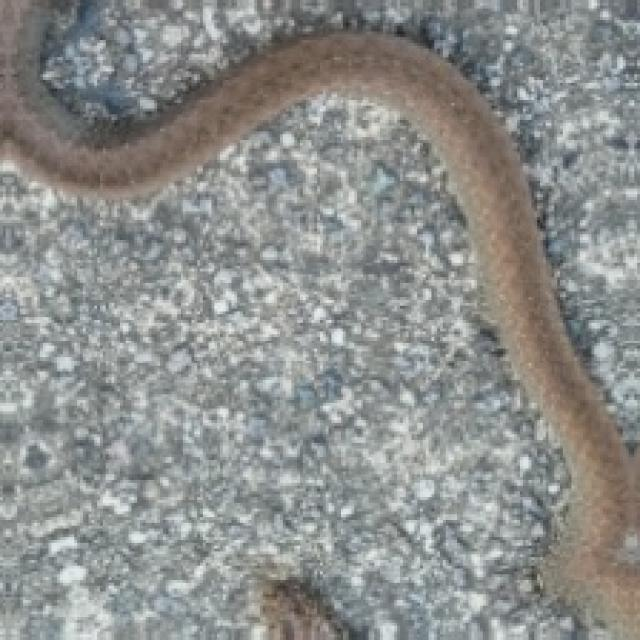reinhardts lined snake: (0, 1, 640, 640), (264, 581, 348, 640)
